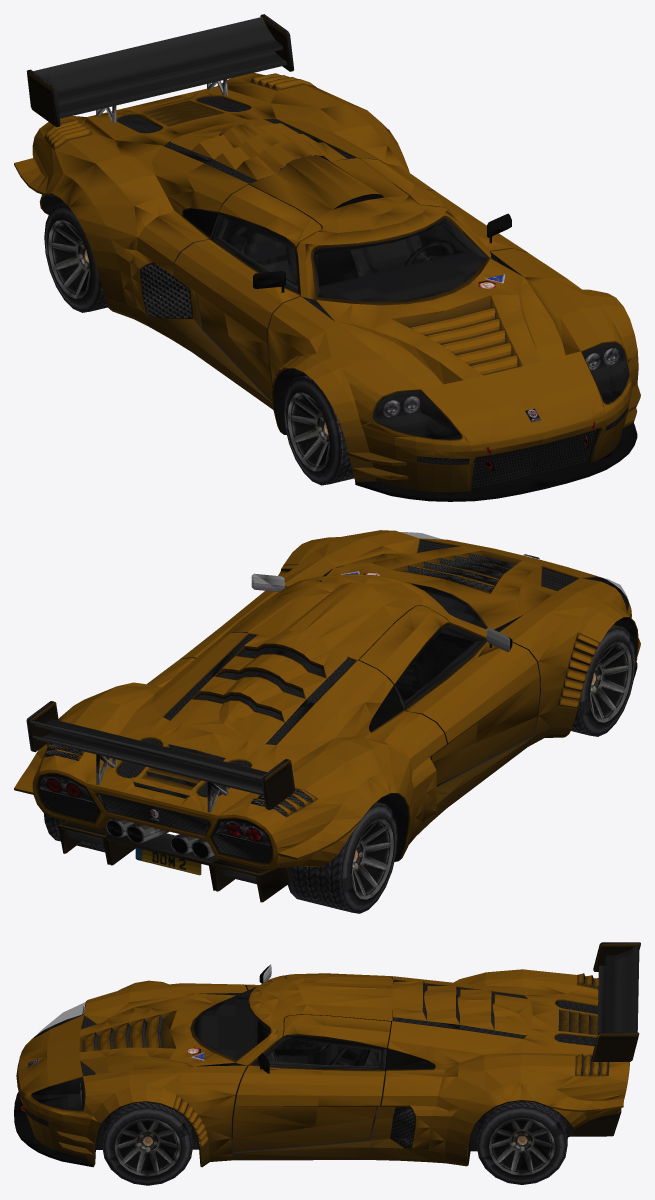
The model's file is Factory GT.obj.
3 views of the same model, one above another, from view 1: azimuth 30°, elevation 25°; view 2: azimuth 150°, elevation 25°; view 3: azimuth 270°, elevation 25° (orthographic). The views are drawn at different scales.
Visible parts, largest first — view 1: mesh_4_55.nr, mesh_4_56.nr, mesh_4_57.nr, mesh_4_64.nr, mesh_4_58.nr, mesh_4_68.nr, mesh_4_61.nr; view 2: mesh_4_55.nr, mesh_4_56.nr, mesh_4_68.nr, mesh_4_59.nr, mesh_4_64.nr, mesh_4_57.nr; view 3: mesh_4_55.nr, mesh_4_56.nr, mesh_4_70.nr, mesh_4_66.nr, mesh_4_57.nr, mesh_4_58.nr, mesh_4_59.nr.
Part boxes in pixels (x1=…): mesh_4_55.nr: x1=14, y1=73, x2=640, y2=492; mesh_4_56.nr: x1=26, y1=14, x2=640, y2=501; mesh_4_57.nr: x1=213, y1=215, x2=486, y2=301; mesh_4_64.nr: x1=283, y1=375, x2=354, y2=485; mesh_4_58.nr: x1=375, y1=343, x2=628, y2=438; mesh_4_68.nr: x1=44, y1=203, x2=107, y2=312; mesh_4_61.nr: x1=383, y1=348, x2=619, y2=418; mesh_4_55.nr: x1=14, y1=530, x2=640, y2=869; mesh_4_56.nr: x1=26, y1=541, x2=640, y2=882; mesh_4_68.nr: x1=287, y1=802, x2=397, y2=913; mesh_4_59.nr: x1=47, y1=777, x2=290, y2=902; mesh_4_64.nr: x1=571, y1=624, x2=635, y2=736; mesh_4_57.nr: x1=396, y1=582, x2=485, y2=706; mesh_4_55.nr: x1=16, y1=965, x2=629, y2=1167; mesh_4_56.nr: x1=14, y1=942, x2=640, y2=1167; mesh_4_70.nr: x1=476, y1=1101, x2=567, y2=1184; mesh_4_66.nr: x1=102, y1=1102, x2=193, y2=1185; mesh_4_57.nr: x1=194, y1=987, x2=269, y2=1059; mesh_4_58.nr: x1=32, y1=1002, x2=85, y2=1110; mesh_4_59.nr: x1=570, y1=1109, x2=621, y2=1136.
Bounding box in the file's own units: 2.09 × 1.14 × 4.51.
Materials: 2 (2 with a texture image).
